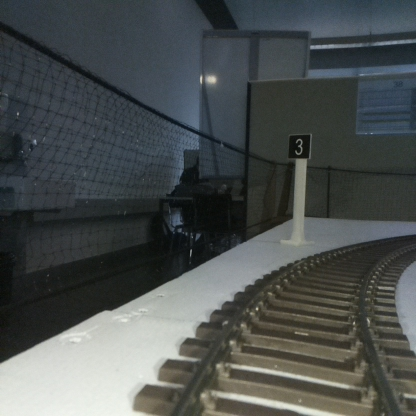black-info-3: (288, 133, 310, 243)
